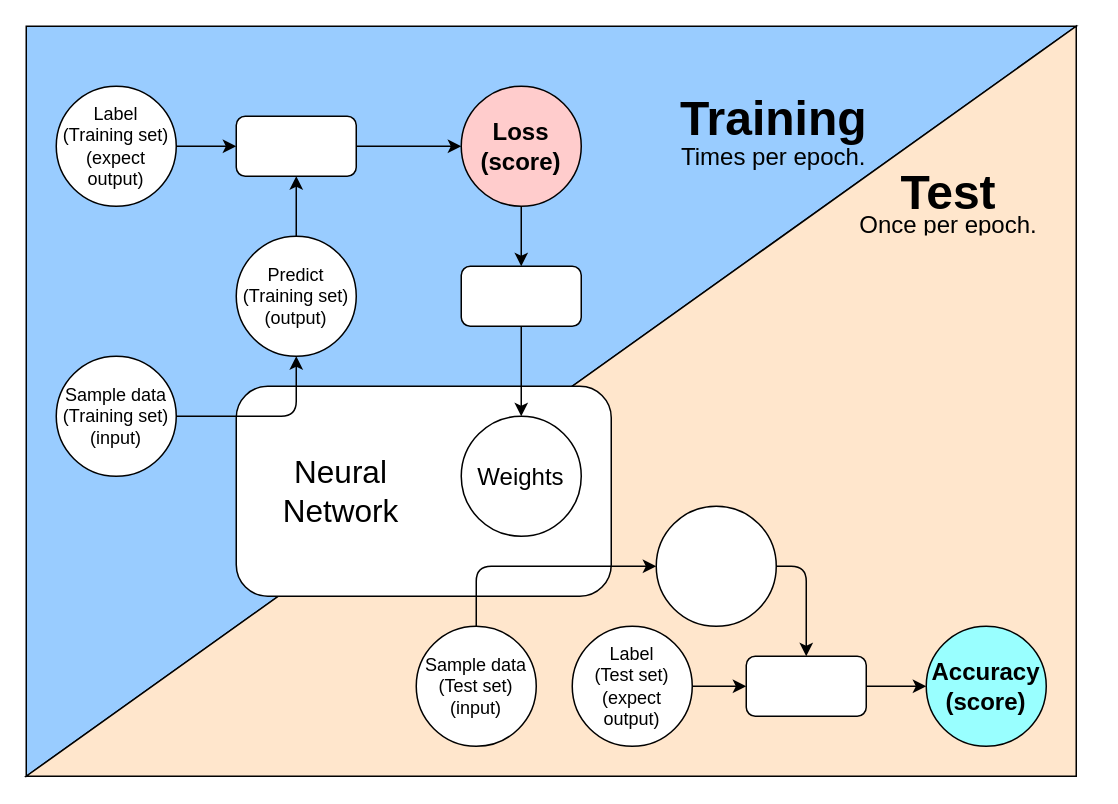
The diagram is 1118 pixels wide and 804 high, and some of its shapes have lost their labels. The shapes that lost their labels are listed below. From the top down, each one's centre as x and y in pixels, then its label:
At (295,145): "Loss func".
At (520,295): "Optimizer".
At (715,565): "Predict (Test set) (output)".
At (805,685): "Accuracy func (metirc)".
